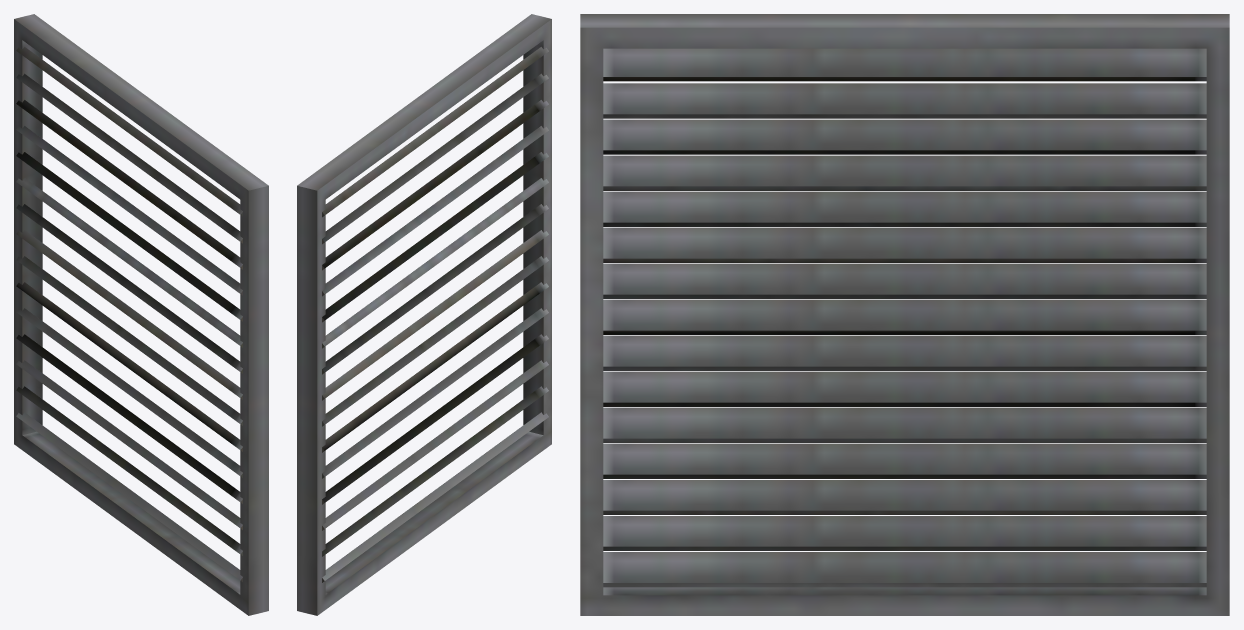
The model's file is Urban_VentCoverSeeThrough_Model.fbx.
3 views of the same model, side by side, from view 1: azimuth 30°, elevation 25°; view 2: azimuth 150°, elevation 25°; view 3: azimuth 270°, elevation 25° (orthographic). The views are drawn at different scales.
Parts seen in each view (by area): view 1: Urban_VentCoverSeeThrough_Mesh; view 2: Urban_VentCoverSeeThrough_Mesh; view 3: Urban_VentCoverSeeThrough_Mesh.
Boxes of the visible parts, x1,y1,x2,y2 form: Urban_VentCoverSeeThrough_Mesh: (14,14,268,615); Urban_VentCoverSeeThrough_Mesh: (297,14,551,615); Urban_VentCoverSeeThrough_Mesh: (580,14,1229,615).
Bounding box in the file's own units: 0.0566 × 1 × 1.
